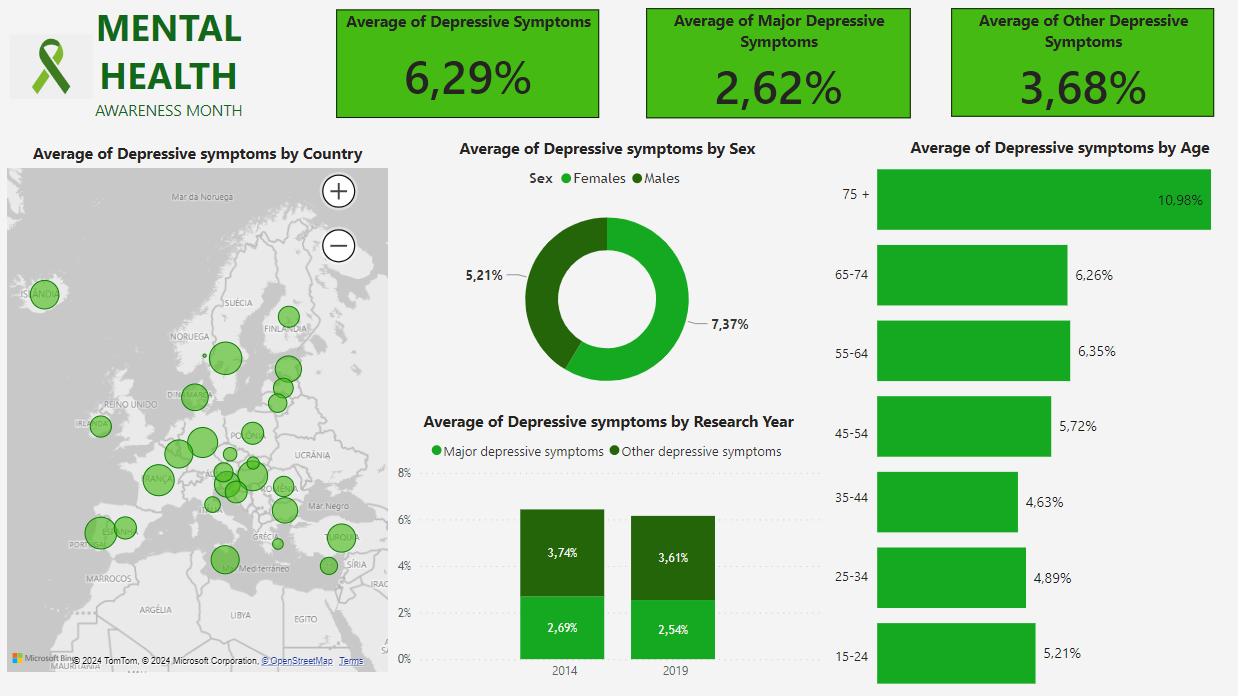

What the dashboard file says about the page in this screenshot:
{"tool":"powerbi","page":{"name":"Copy2 of Home Page","canvas":[1280,720],"ordinal":3},"visuals":[{"type":"card","title":"Average of Depressive Symptoms","fields":{"Values":["Avg(Sheet1.Depressive symptoms)"]},"box":[344.3,12.7,269.6,111.4],"z":0},{"type":"card","title":"Average of Major Depressive Symptoms","fields":{"Values":["Avg(Sheet1.Major depressive symptoms)"]},"box":[663.3,11.4,270.9,112.7],"z":1000},{"type":"card","title":"Average of Other Depressive Symptoms","fields":{"Values":["Avg(Sheet1.Other depressive symptoms)"]},"box":[975.9,11.4,269.6,111.4],"z":2000},{"type":"donutChart","fields":{"Category":["Sheet1.Sex"],"Y":["Avg(Sheet1.Depressive symptoms)"]},"box":[400,143,445.6,279.7],"z":3000},{"type":"barChart","title":"Average of Depressive symptoms by Age","fields":{"Y":["Avg(Sheet1.Depressive symptoms)"],"Category":["Sheet1.Age_Average"]},"box":[894.3,142.9,384.3,567.1],"z":4000},{"type":"image","box":[0,32.9,105.1,75.9],"z":5000},{"type":"textbox","box":[53.2,0,232.9,151.9],"z":6000},{"type":"textbox","box":[851.4,187.1,54.3,521.4],"z":7000},{"type":"columnChart","title":"Average of Depressive symptoms by Research Year","fields":{"Category":["Sheet1.Research_Year"],"Y":["Avg(Sheet1.Major depressive symptoms)","Avg(Sheet1.Other depressive symptoms)"]},"box":[403,423,443,286],"z":8000},{"type":"map","title":"Average of Depressive symptoms by Country","fields":{"Category":["Sheet1.Country - Copy"],"Size":["Avg(Sheet1.Depressive symptoms)"]},"box":[0,148.1,400,549.4],"z":9000}]}

Visuals, with their boxes in screenshot pixels (x1, y1, x2, y2), scaled from the page's 1280x720 canvas onto the 1238x696 screenshot:
"Average of Depressive Symptoms" card: crop(333, 12, 594, 120)
"Average of Major Depressive Symptoms" card: crop(642, 11, 904, 120)
"Average of Other Depressive Symptoms" card: crop(944, 11, 1205, 119)
donutChart - Sheet1.Sex x Avg(Sheet1.Depressive symptoms): crop(387, 138, 818, 409)
"Average of Depressive symptoms by Age" barChart: crop(865, 138, 1237, 686)
image: crop(0, 32, 102, 105)
textbox: crop(51, 0, 277, 147)
textbox: crop(823, 181, 876, 685)
"Average of Depressive symptoms by Research Year" columnChart: crop(390, 409, 818, 685)
"Average of Depressive symptoms by Country" map: crop(0, 143, 387, 674)
